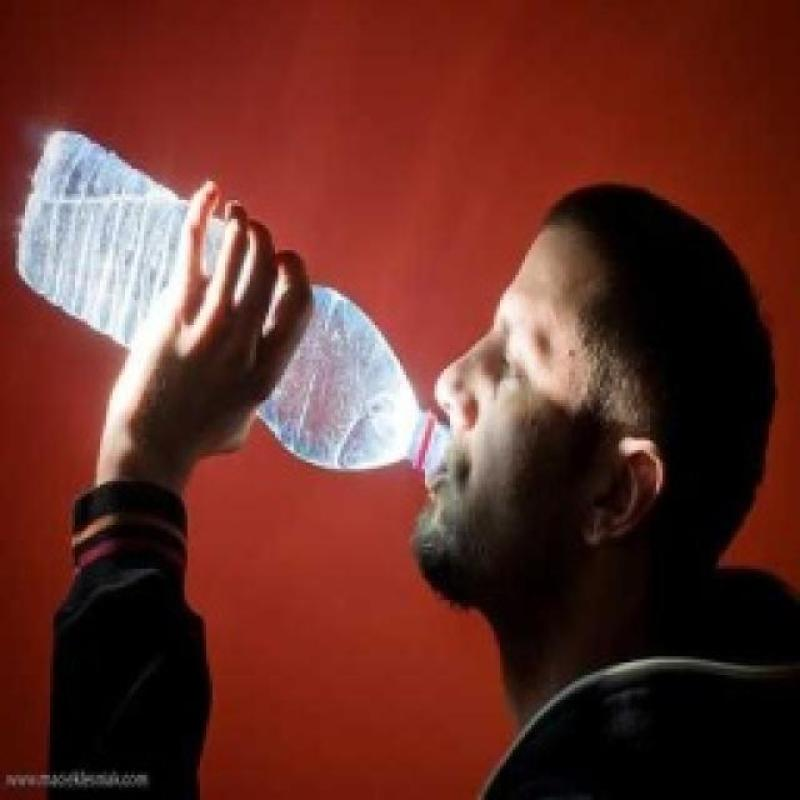botella: (17, 133, 452, 477)
